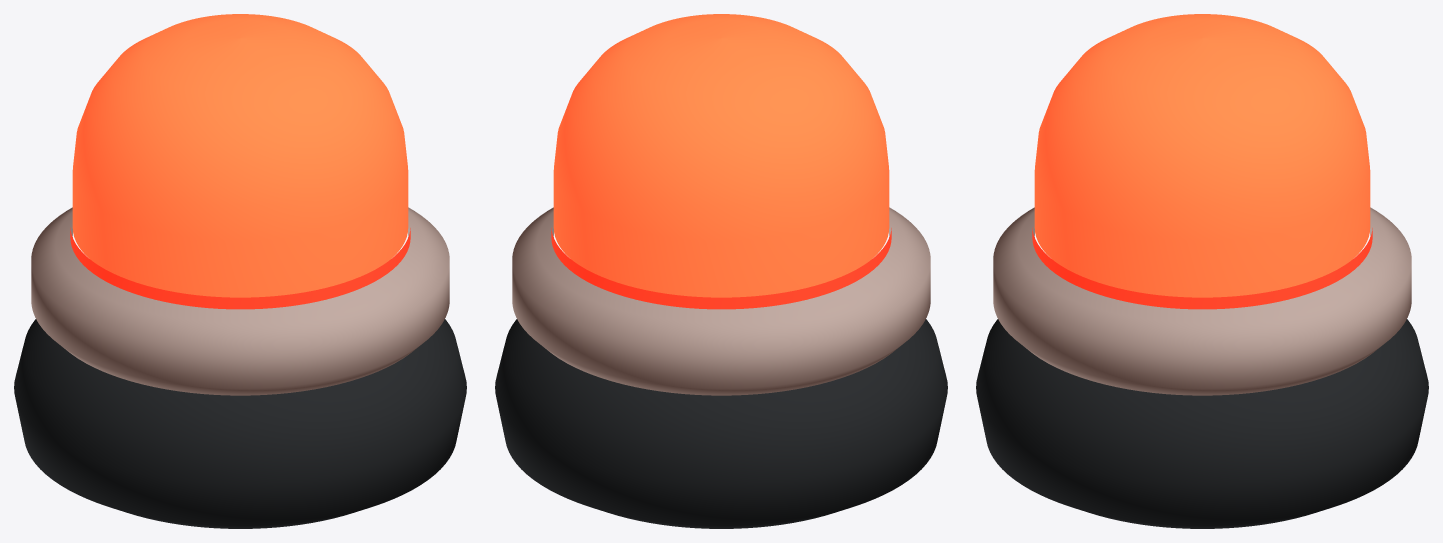
Rendered from BigRedButtonGlowLevel17.glb.
The picture shows the model from 3 angles, left to right: view 1: azimuth 30°, elevation 25°; view 2: azimuth 150°, elevation 25°; view 3: azimuth 270°, elevation 25°; orthographic projection.
Visible parts, largest first — view 1: button, button_base, metal_bezel, cap_side_shadow; view 2: button, button_base, metal_bezel, cap_side_shadow; view 3: button, button_base, metal_bezel, cap_side_shadow.
Part boxes in pixels (x1,y1,x2,y2): button: (72, 14, 408, 297); button_base: (14, 319, 466, 528); metal_bezel: (31, 207, 449, 395); cap_side_shadow: (70, 228, 410, 309); button: (553, 14, 889, 297); button_base: (495, 319, 947, 528); metal_bezel: (512, 207, 930, 395); cap_side_shadow: (551, 228, 891, 309); button: (1034, 14, 1370, 297); button_base: (976, 319, 1428, 528); metal_bezel: (993, 207, 1411, 395); cap_side_shadow: (1032, 228, 1372, 309).
Size of the model in its own units: 0.0185 by 0.0185 by 0.0185.
